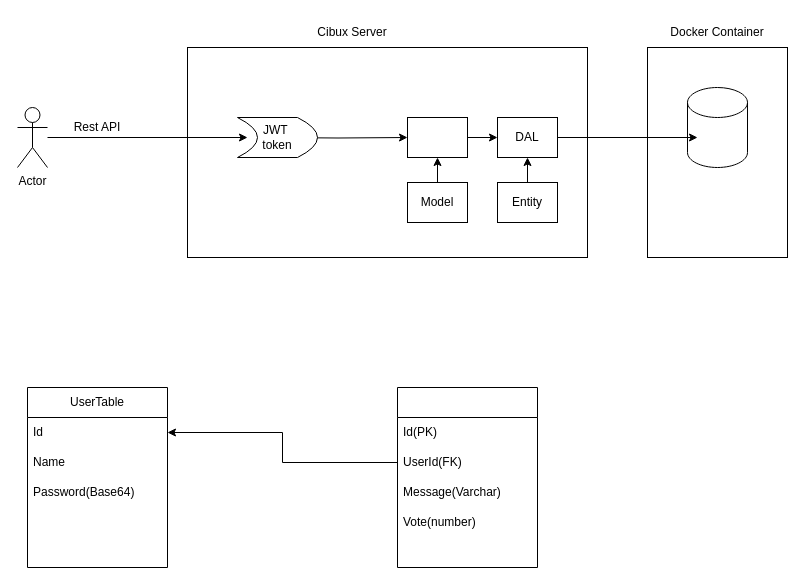
Some shapes in this 805 by 585 pixel diagram are drawn without their labels. The box of each missing label's shape, as (x1, y1, x2, y2) in pixels:
DB: (686, 86, 748, 168)
Messge Table: (396, 386, 538, 568)
Service: (406, 116, 468, 158)
